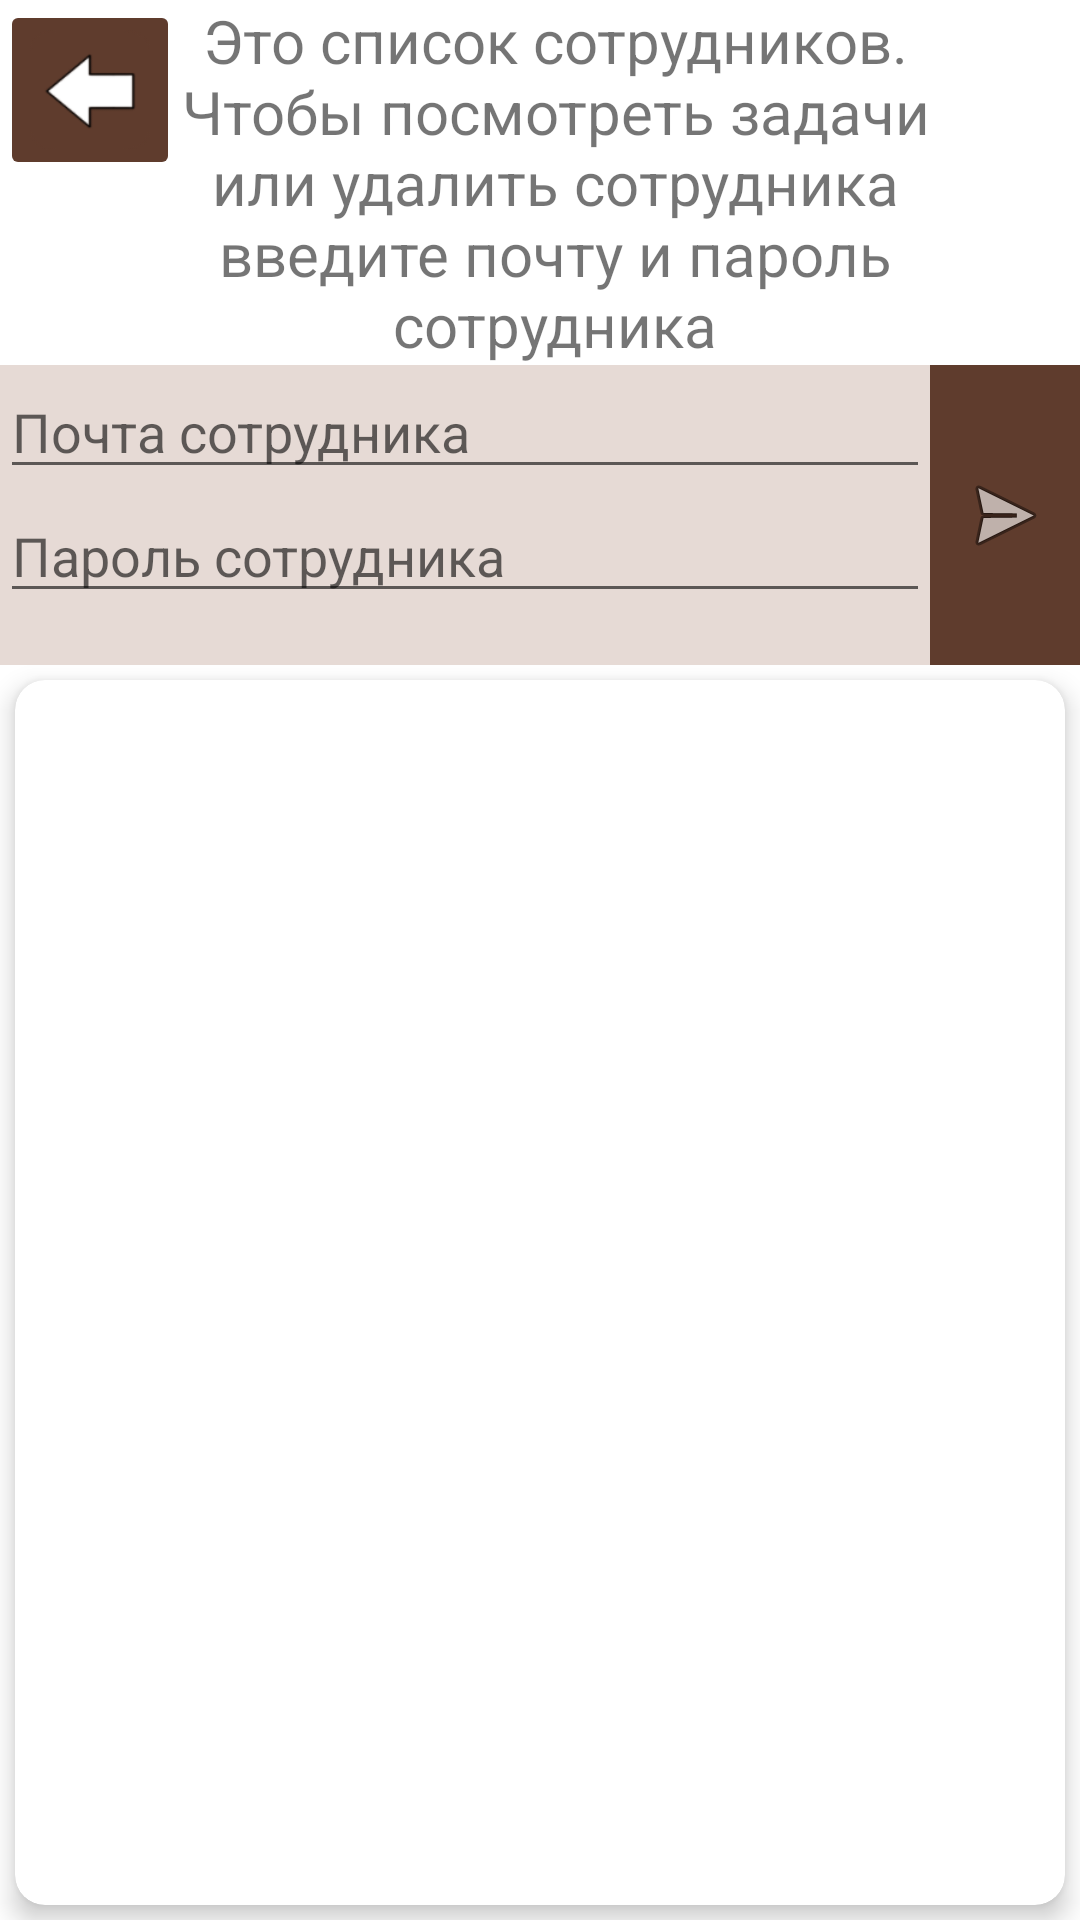

Icon click points for this 1080*1920 phone screenshot, format (x,y):
nazad: (90,90)
send: (1005,515)
